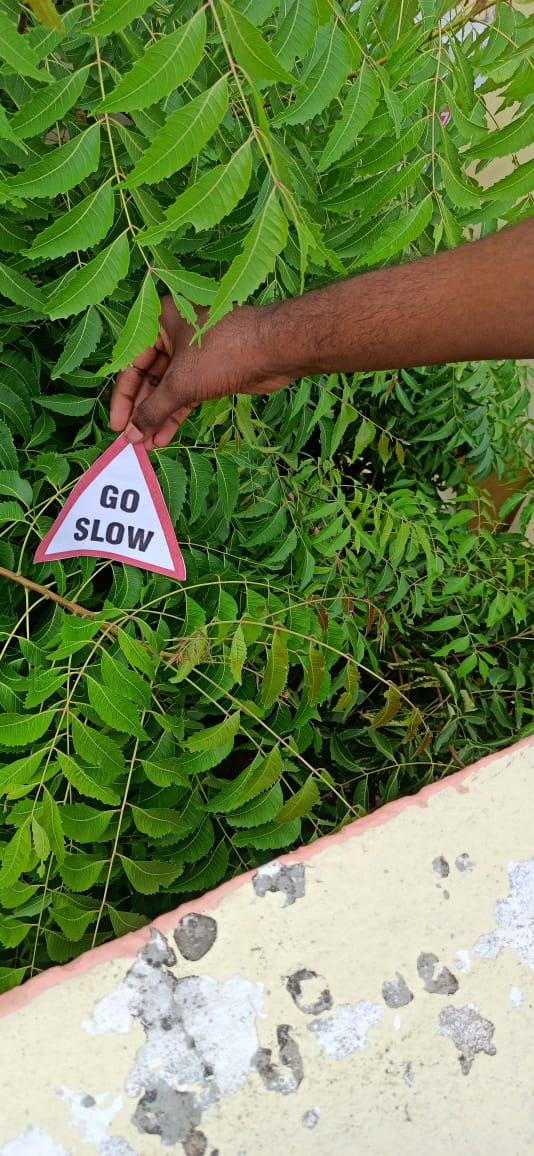GO SLOW: (36, 409, 199, 592)
